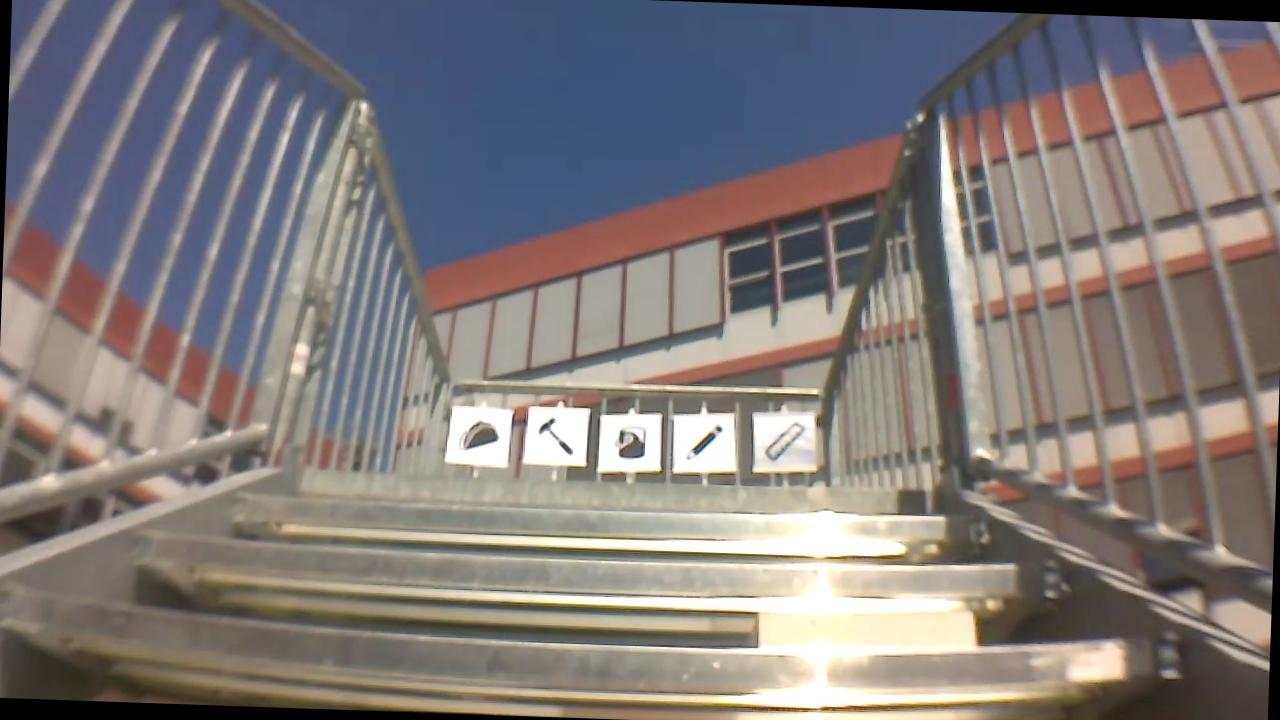brick: (756, 600, 985, 674)
bucket: (609, 423, 646, 461)
edge: (124, 519, 1026, 609), (232, 485, 988, 546), (266, 465, 942, 514)
hammer: (530, 412, 578, 458)
pencil: (679, 420, 728, 466)
ruler: (763, 418, 803, 461)
taco: (458, 413, 499, 456)
